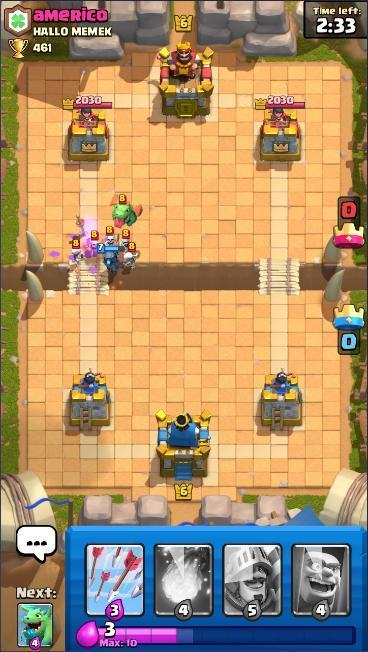ally_mini_pekka: (97, 242, 126, 273)
enemy_baby_dragon: (108, 192, 144, 229)
enemy_skeleton: (121, 242, 140, 271), (86, 229, 104, 257), (70, 238, 86, 264), (104, 225, 120, 250), (118, 228, 133, 253)
